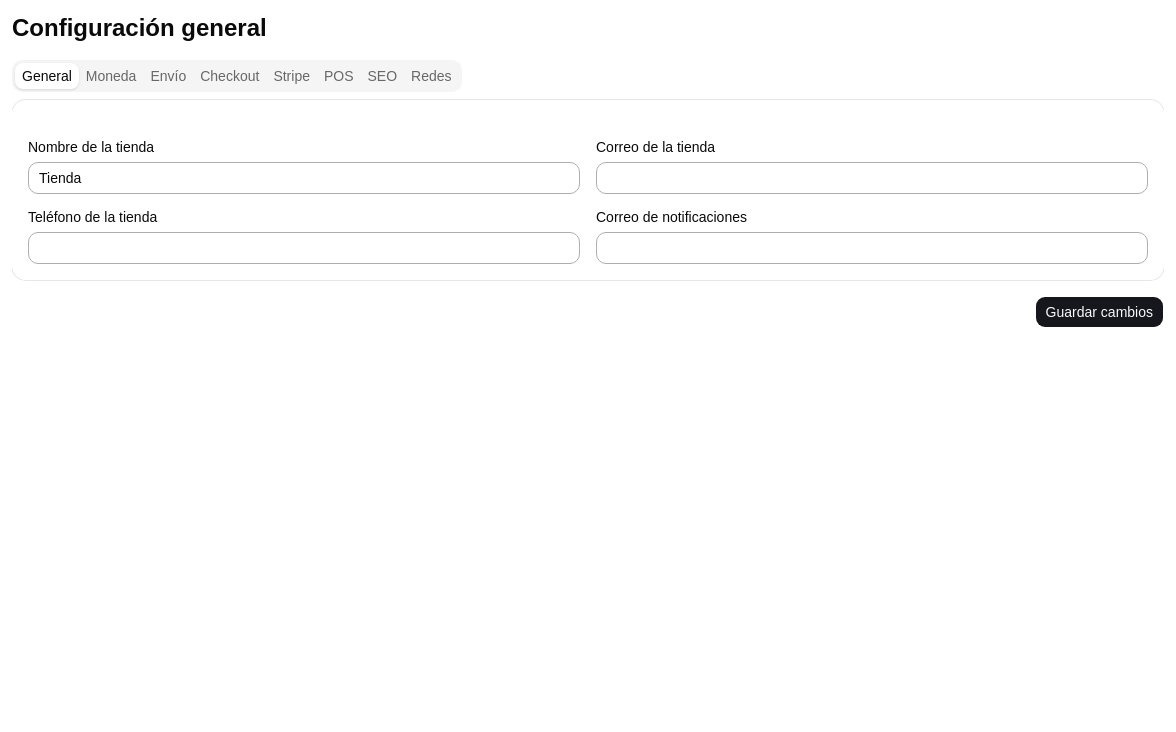
Test: GeneralSettings: pestaña POS › leaves the fields usable when the platform allows it
Click the tab "POS" at coordinates (339, 76), box [317,63,361,89]
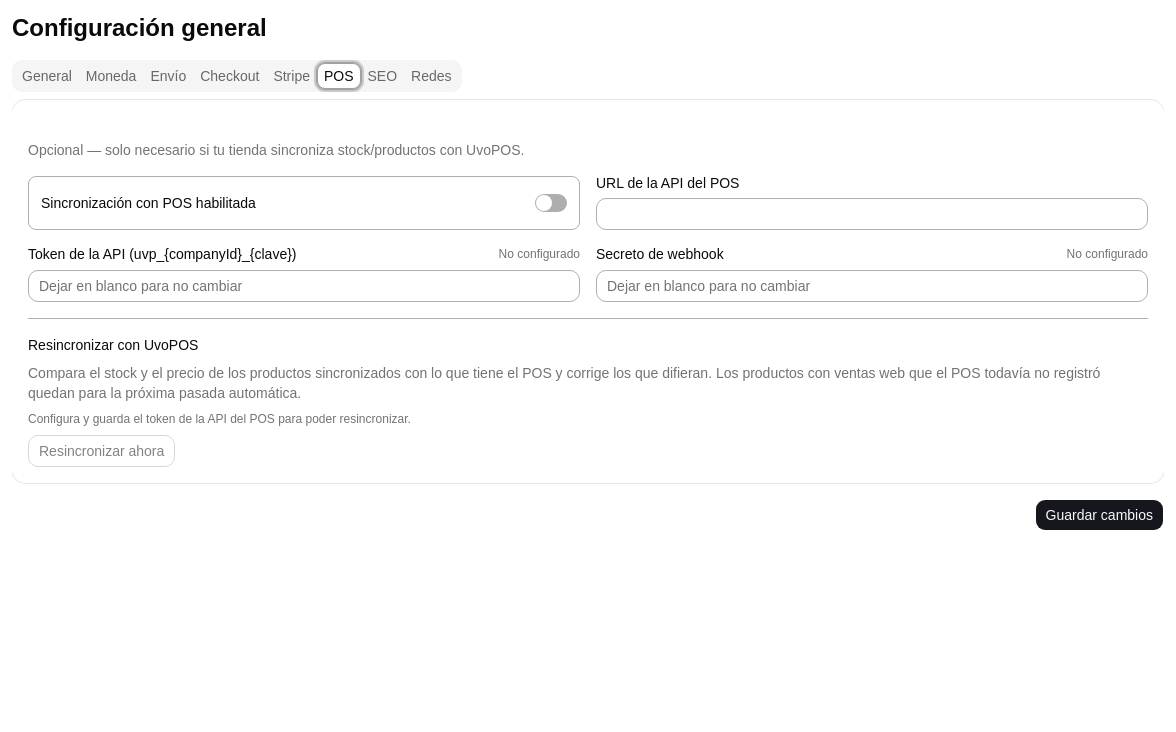
Now the switch named "sincronización con pos" is enabled, box [535,194,567,212]
Now the field labelled "URL de la API del POS" is enabled, box [596,198,1148,230]
